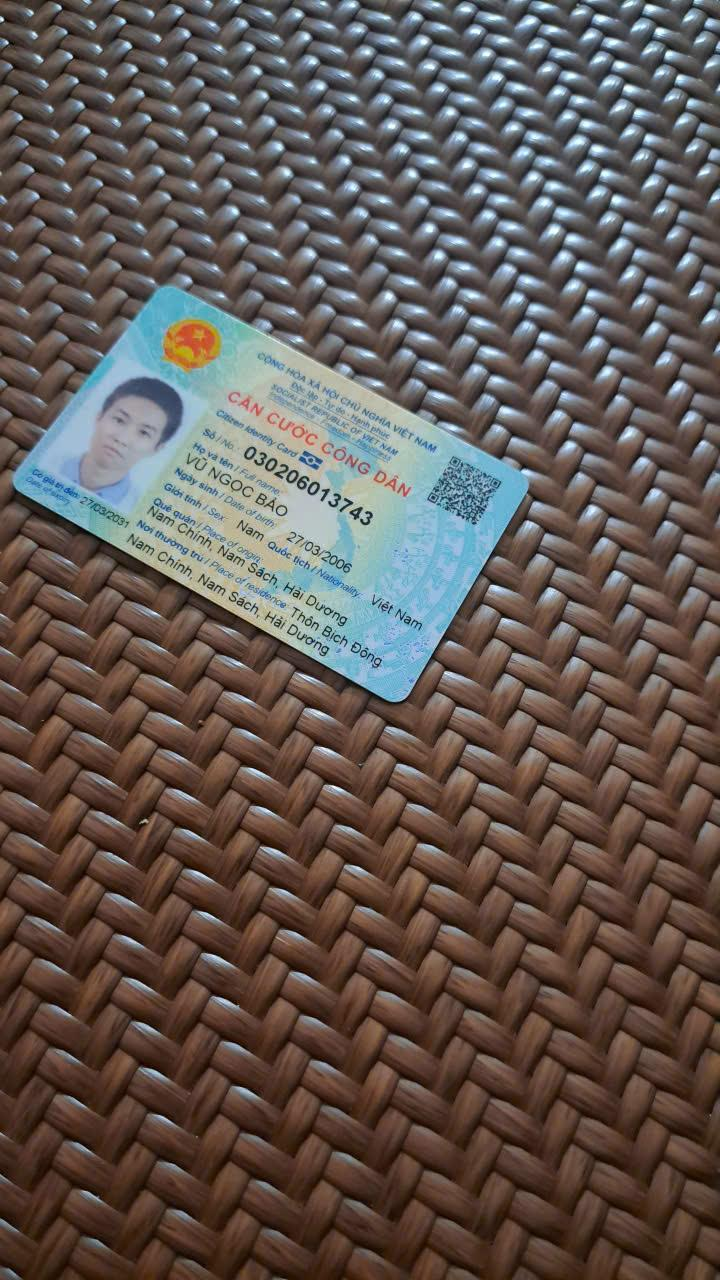cccd: (2, 277, 540, 710)
